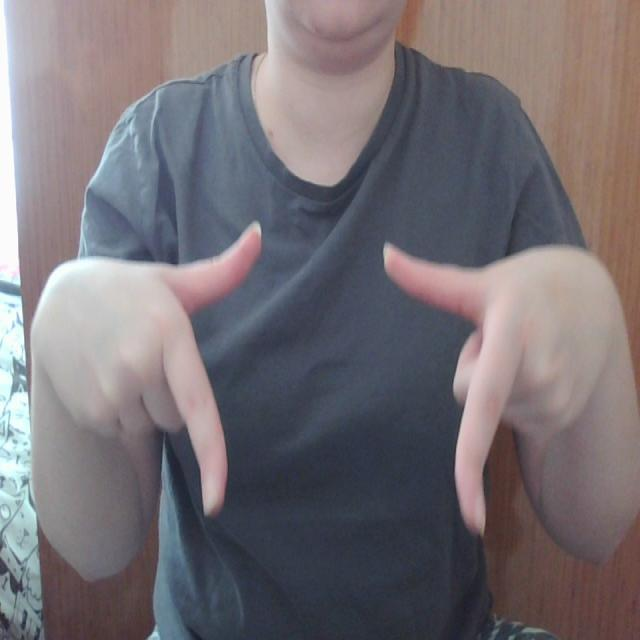Nerede: (153, 212, 537, 548)
